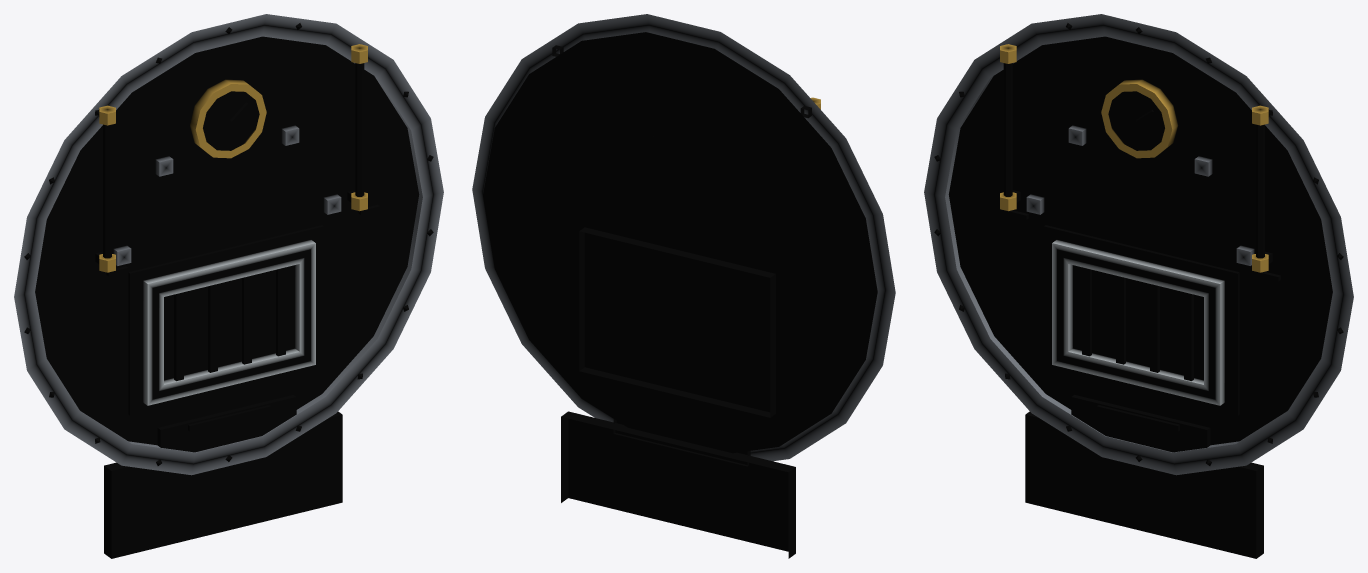
The model's file is boiler_65.glb.
3 renders of one model, left to right at view 1: azimuth 30°, elevation 25°; view 2: azimuth 150°, elevation 25°; view 3: azimuth 330°, elevation 25°, orthographic.
Parts seen in each view (by area): view 1: plate, ring, furnace_dark, furnace_steel, brass, glass, dial, stays; view 2: plate, ring, furnace_dark; view 3: plate, ring, furnace_dark, furnace_steel, brass, glass, dial, stays.
Part boxes in pixels (x1,y1,x2,y2): plate: (35, 36, 419, 445); ring: (14, 14, 443, 558); furnace_dark: (128, 102, 323, 452); furnace_steel: (143, 240, 315, 431); brass: (95, 44, 380, 276); glass: (103, 63, 364, 258); dial: (203, 91, 258, 150); stays: (113, 125, 341, 265); plate: (483, 32, 877, 455); ring: (472, 14, 895, 558); furnace_dark: (579, 227, 775, 466); plate: (948, 36, 1332, 445); ring: (924, 14, 1353, 558); furnace_dark: (1044, 109, 1239, 452); furnace_steel: (1052, 240, 1224, 431); brass: (1000, 44, 1280, 281); glass: (1003, 63, 1264, 258); dial: (1109, 91, 1164, 150); stays: (1026, 125, 1254, 265).
Bounding box in the file's own units: 1.33 × 1.5 × 0.0975.
